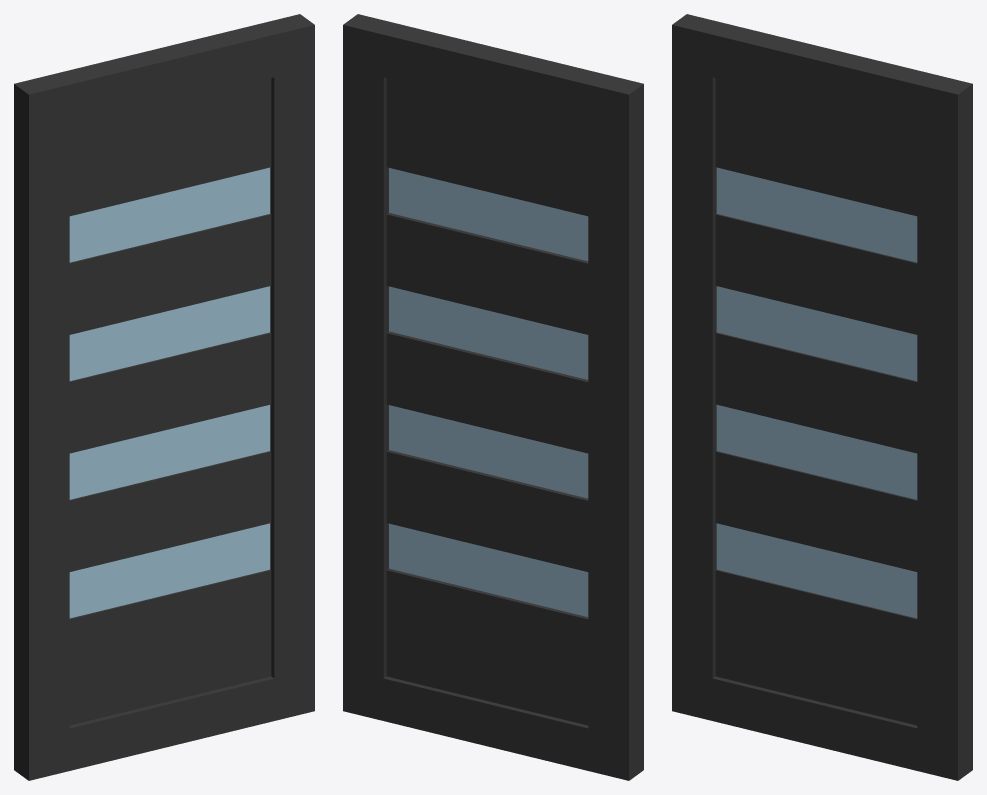
Rendered from Door5_C2.fbx.
3 views of the same model, side by side, from view 1: azimuth 30°, elevation 25°; view 2: azimuth 150°, elevation 25°; view 3: azimuth 330°, elevation 25° (orthographic).
Parts seen in each view (by area): view 1: Door5_C2; view 2: Door5_C2; view 3: Door5_C2.
Boxes of the visible parts, left/top/right/bottom form: Door5_C2: left=14, top=14, right=314, bottom=780; Door5_C2: left=343, top=14, right=643, bottom=780; Door5_C2: left=672, top=14, right=972, bottom=780.
Bounding box in the file's own units: 0.89 × 2.04 × 0.08.
